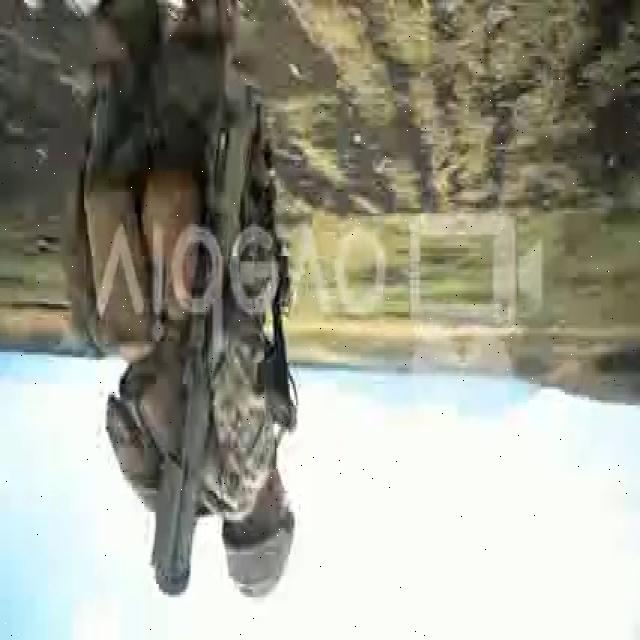bazooka: (149, 72, 263, 607)
